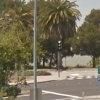Palm tree: (39, 1, 82, 72)
